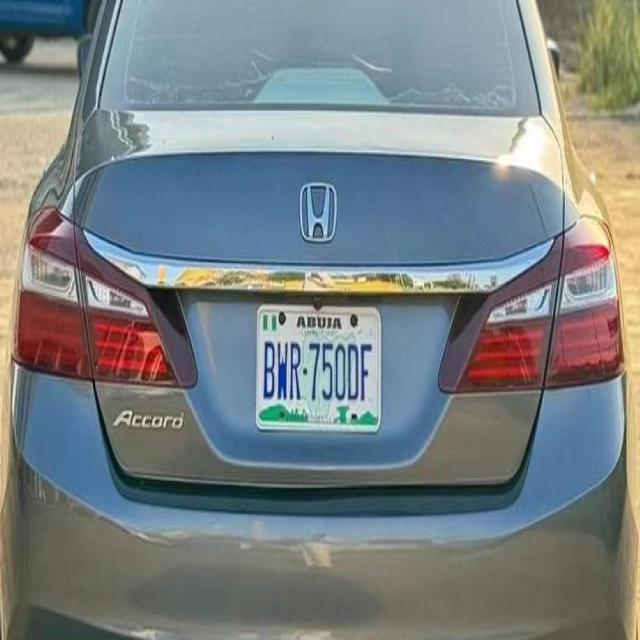Nigerian License Plate - vdataset benjamin-daria: (254, 296, 383, 439)
